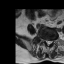CCS_normal: (47, 37, 50, 48)
LFS_severe_stenosis: (52, 37, 54, 44)
LLS_normal: (50, 38, 52, 45)
RFS_severe_stenosis: (43, 36, 45, 43)
RLS_normal: (45, 37, 47, 45)
